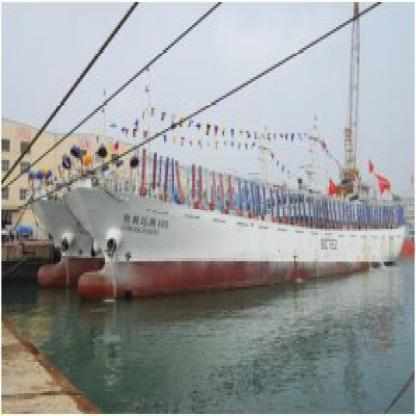Ship: (57, 141, 416, 318)
